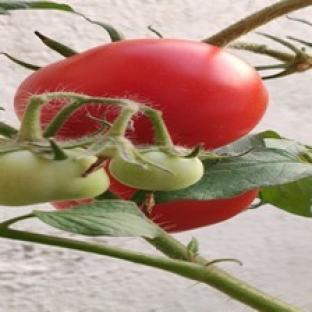Tomato: (14, 39, 267, 149), (0, 150, 108, 206), (144, 190, 259, 232), (109, 151, 203, 190)
